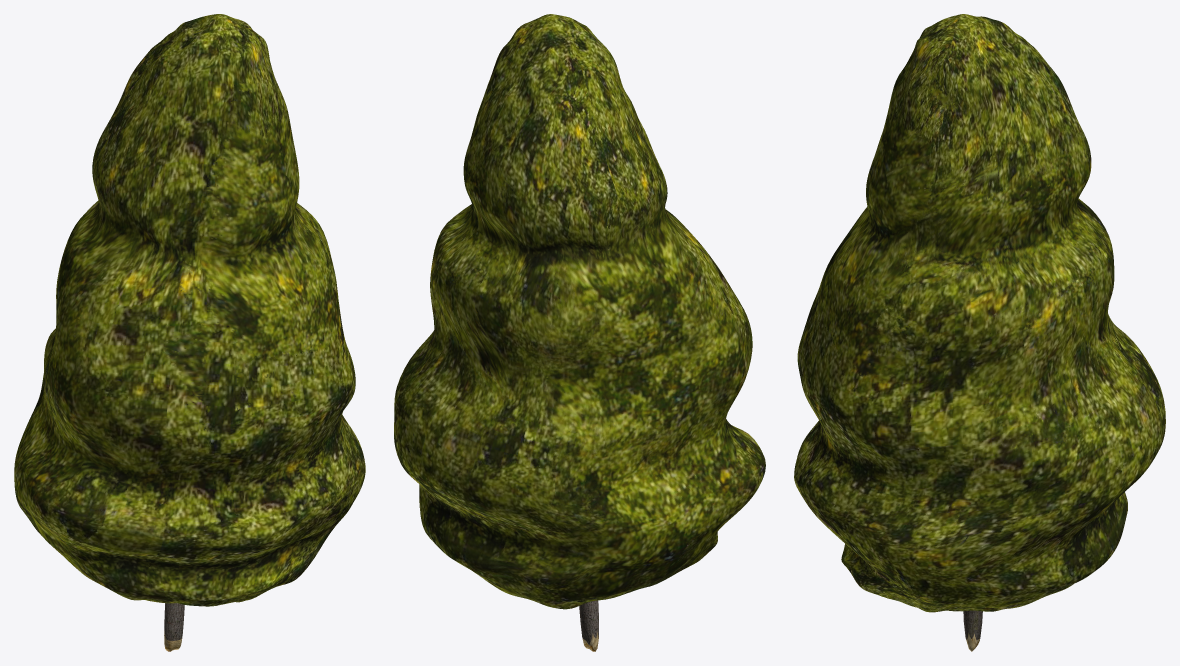
The model's file is poplar.obj.
3 views of the same model, side by side, from view 1: azimuth 30°, elevation 25°; view 2: azimuth 150°, elevation 25°; view 3: azimuth 270°, elevation 25° (orthographic). The views are drawn at different scales.
Visible parts, largest first — view 1: 10460_Yellow_Poplar_Tree_v1_L3; view 2: 10460_Yellow_Poplar_Tree_v1_L3; view 3: 10460_Yellow_Poplar_Tree_v1_L3.
Boxes of the visible parts, <box> form: 10460_Yellow_Poplar_Tree_v1_L3: <box>14,14,365,651</box>; 10460_Yellow_Poplar_Tree_v1_L3: <box>394,14,765,651</box>; 10460_Yellow_Poplar_Tree_v1_L3: <box>794,14,1165,651</box>.
Bounding box in the file's own units: 10.29 × 19.55 × 10.04.
1 material, 1 textured.
